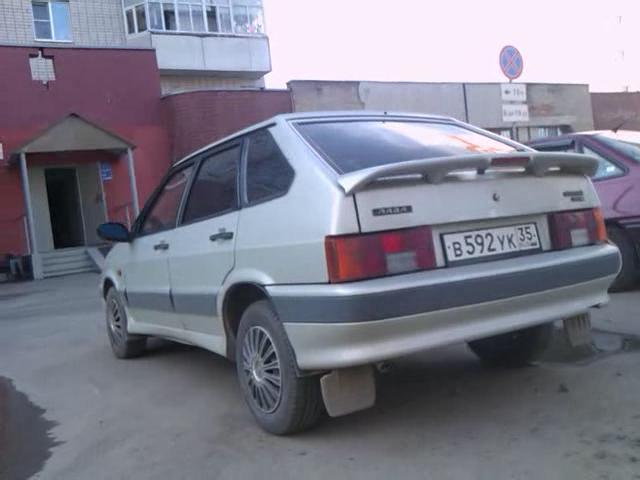car license plate: (439, 220, 544, 278)
